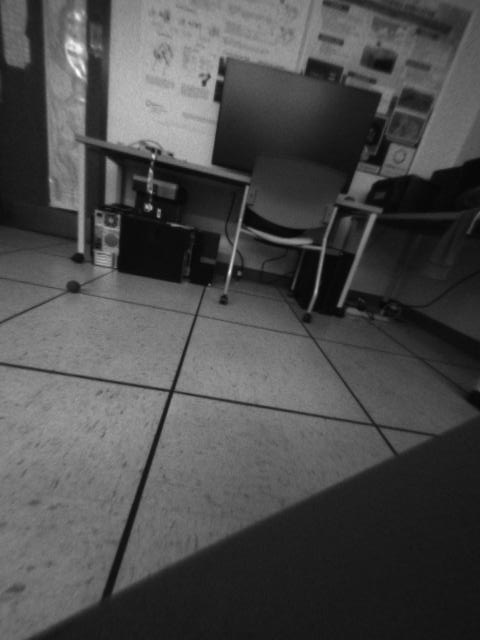dogtoy: (63, 272, 92, 300)
